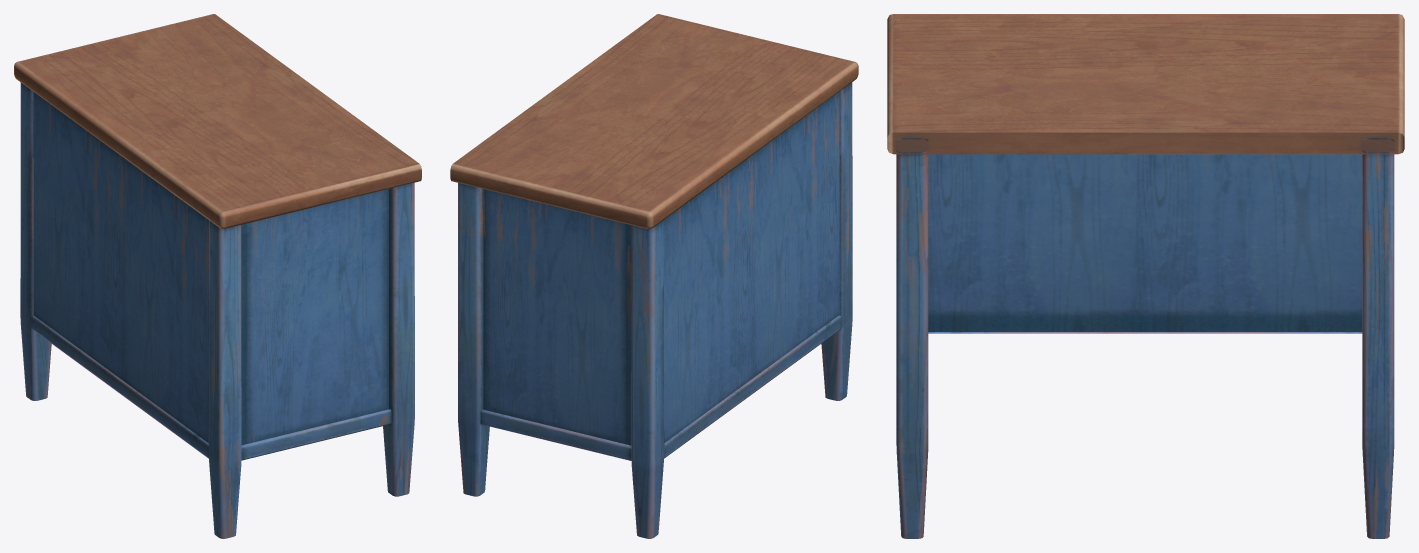
Rendered from SM_Cabinet_04.fbx.
The picture shows the model from 3 angles, left to right: view 1: azimuth 30°, elevation 25°; view 2: azimuth 150°, elevation 25°; view 3: azimuth 270°, elevation 25°; orthographic projection. The views are drawn at different scales.
Parts seen in each view (by area): view 1: SM_Cabinet_04_LOD0; view 2: SM_Cabinet_04_LOD0; view 3: SM_Cabinet_04_LOD0.
Part boxes in pixels (x1=…): SM_Cabinet_04_LOD0: x1=14, y1=14, x2=421, y2=538; SM_Cabinet_04_LOD0: x1=450, y1=14, x2=858, y2=538; SM_Cabinet_04_LOD0: x1=887, y1=14, x2=1404, y2=538.
Size of the model in its own units: 67.02 by 121 by 106.
1 material, 1 textured.
